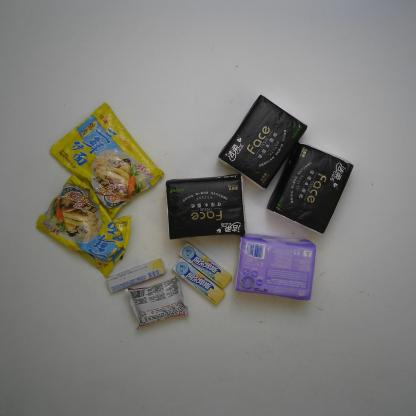Candy: (176, 240, 234, 290), (171, 256, 226, 307), (104, 257, 169, 295)
Dessert: (123, 273, 191, 332)
Instant Noodles: (48, 101, 165, 222), (34, 172, 133, 279)
Tissue: (216, 92, 309, 192), (265, 140, 355, 237), (232, 231, 317, 302), (164, 172, 248, 241)
